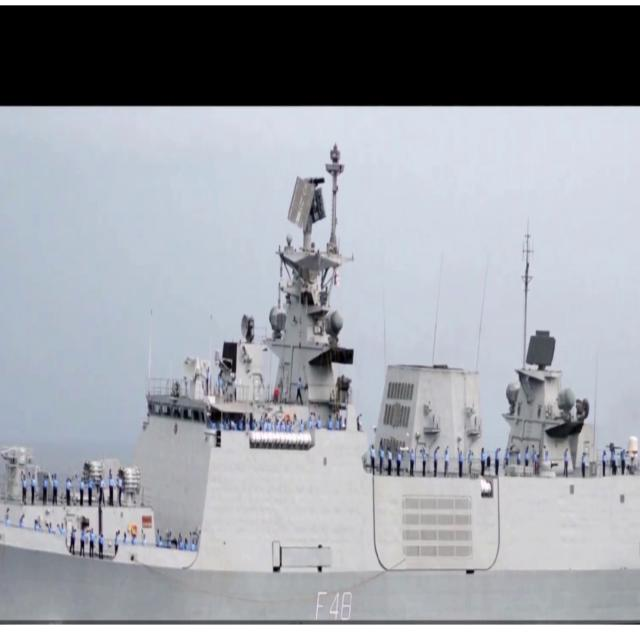OCR: (311, 584, 364, 621)
